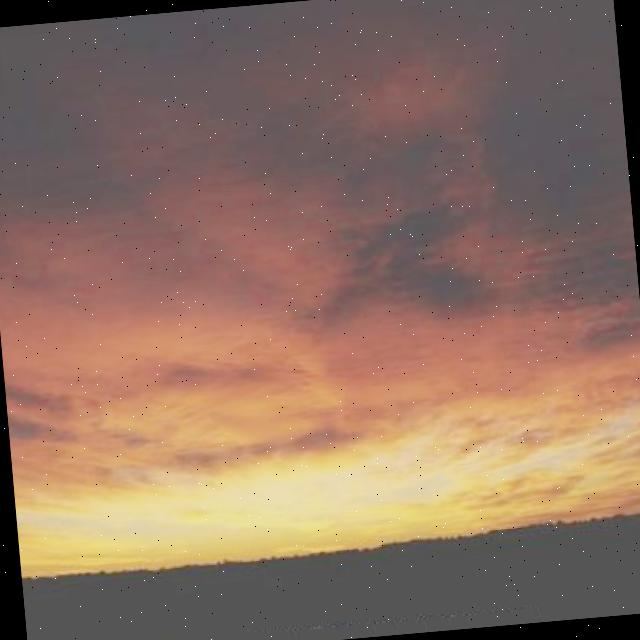As: (1, 1, 640, 543)
